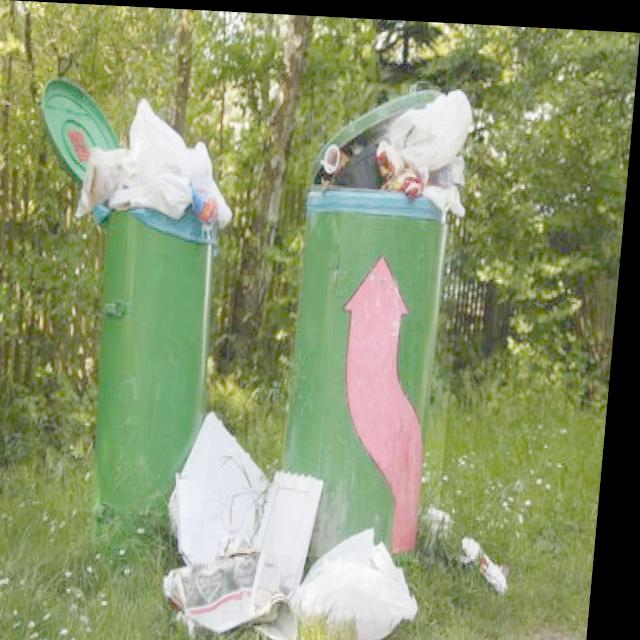garbage: (168, 402, 529, 640)
overflow: (283, 76, 478, 558), (56, 93, 242, 516)
